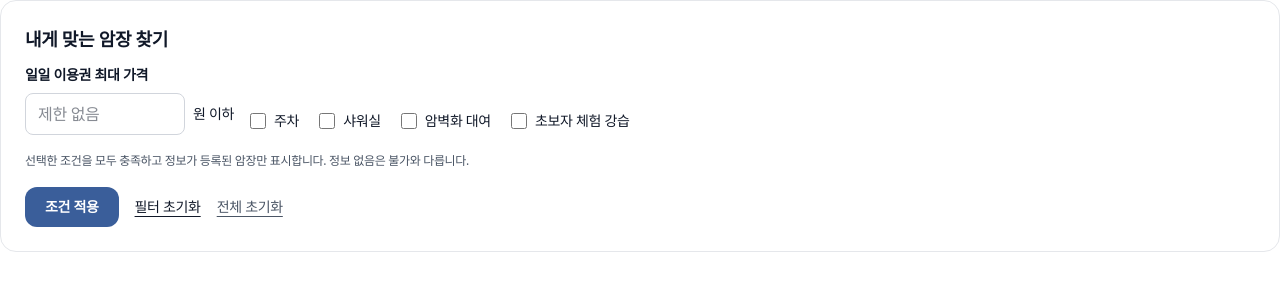
Test: clears unsaved drafts and errors even when 필터 초기화 targets the current URL
The image size is (1280, 305).
Step 1. Type "-1" into the field labelled "일일 이용권 최대 가격" → [105, 114], box [25,93,185,135]
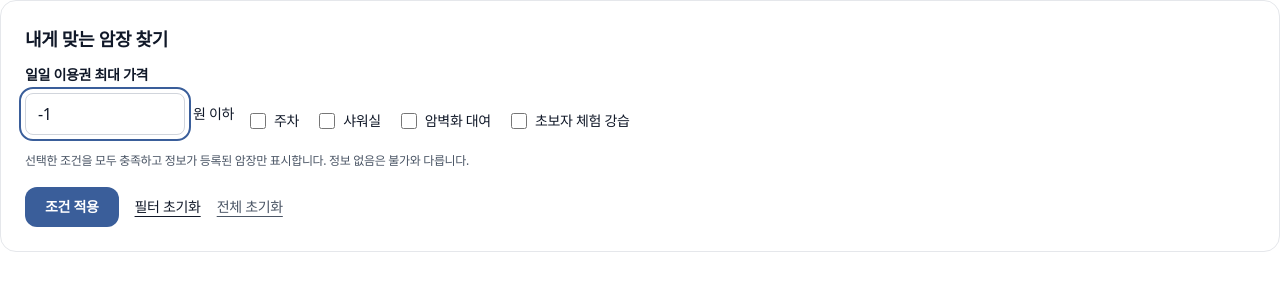
Step 2. Click the checkbox labelled "주차" → [258, 121], box [250,113,266,129]
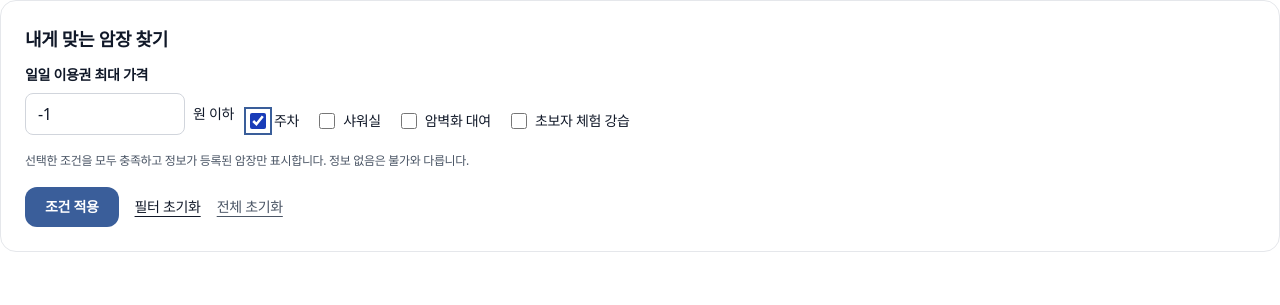
Step 3. Click the button "조건 적용" → [72, 206], box [25,186,119,226]
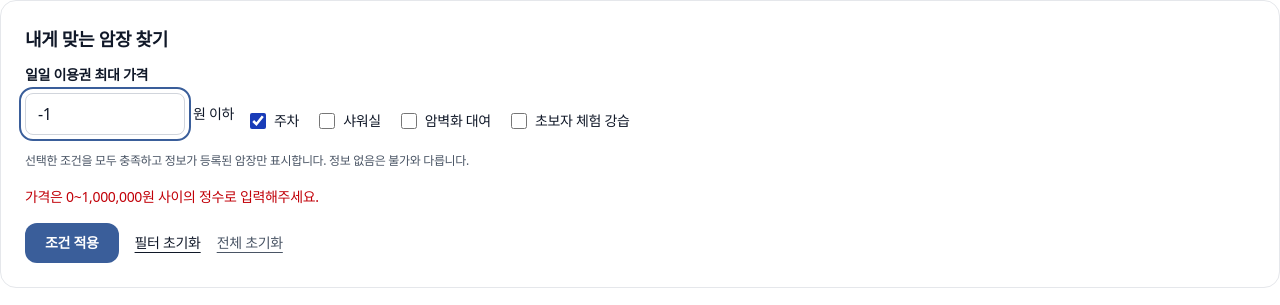
Step 4. Click the link "필터 초기화" → [168, 242], box [135,232,201,252]
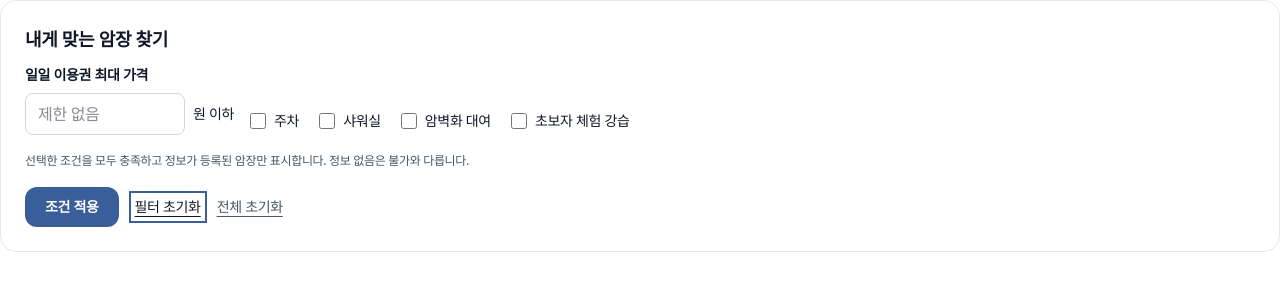
Expected: the checkbox labelled "주차" is not checked, [250,113,266,129]
Expected: the field labelled "일일 이용권 최대 가격" is empty, [25,93,185,135]
Expected: the message "가격은 0~1,000,000원 사이의 정수로 입력해주세요." is gone
